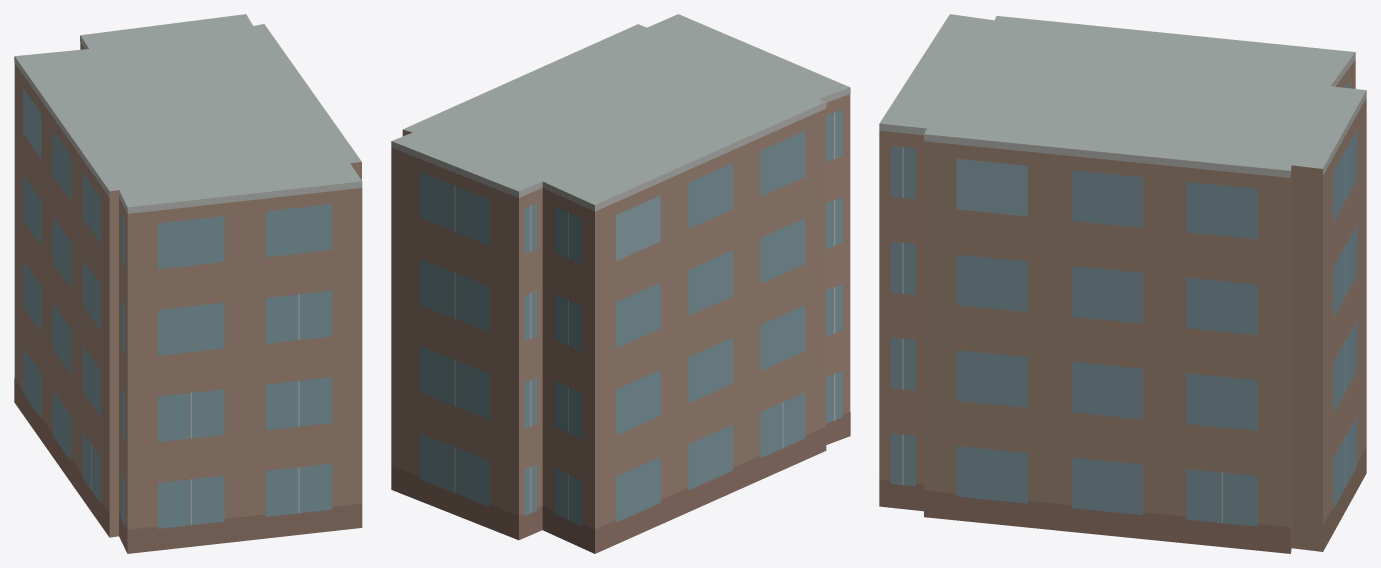
Rendered from survey-upis-32737157.glb.
The picture shows the model from 3 angles, left to right: view 1: azimuth 30°, elevation 25°; view 2: azimuth 150°, elevation 25°; view 3: azimuth 270°, elevation 25°; orthographic projection. The views are drawn at different scales.
Visible parts, largest first — view 1: survey-upis-32737157.tmp; view 2: survey-upis-32737157.tmp; view 3: survey-upis-32737157.tmp.
Boxes of the visible parts, bbox=[...] form: survey-upis-32737157.tmp: bbox=[14, 14, 362, 553]; survey-upis-32737157.tmp: bbox=[391, 14, 850, 553]; survey-upis-32737157.tmp: bbox=[879, 14, 1366, 553].
Size of the model in its own units: 11.61 by 13.2 by 15.23.
